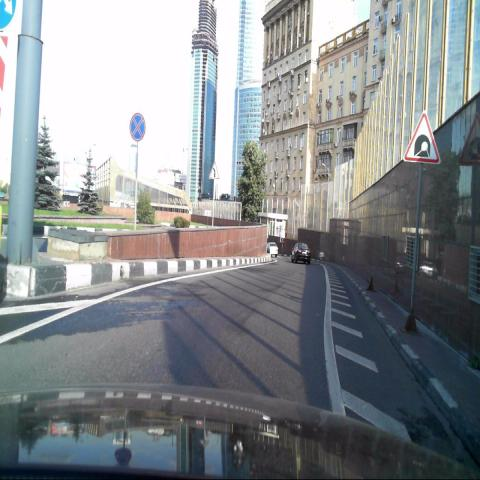1_11_1: (207, 160, 220, 181)
1_31: (402, 109, 442, 166)
